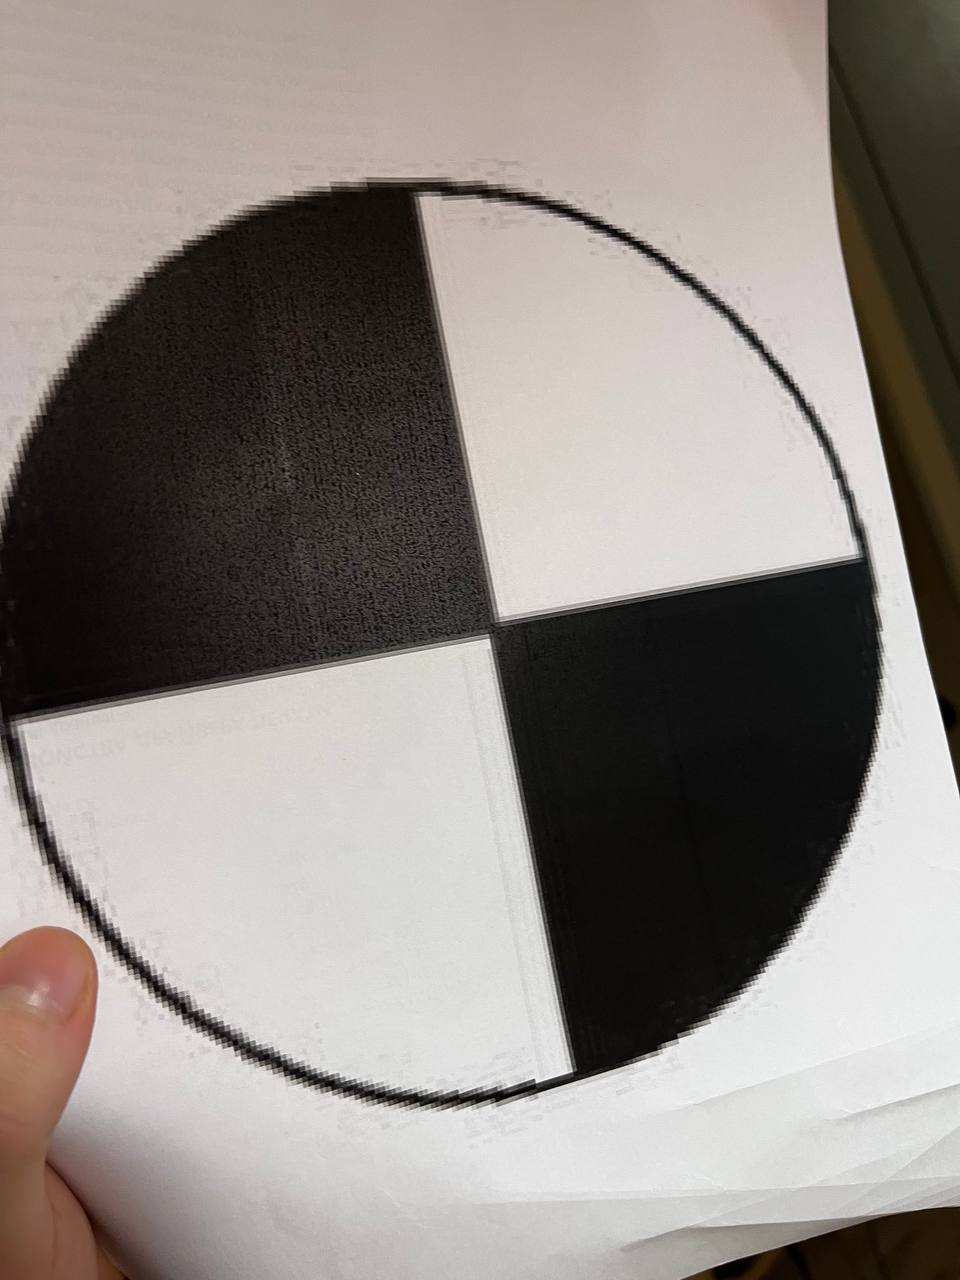pattern: (3, 165, 887, 1103)
